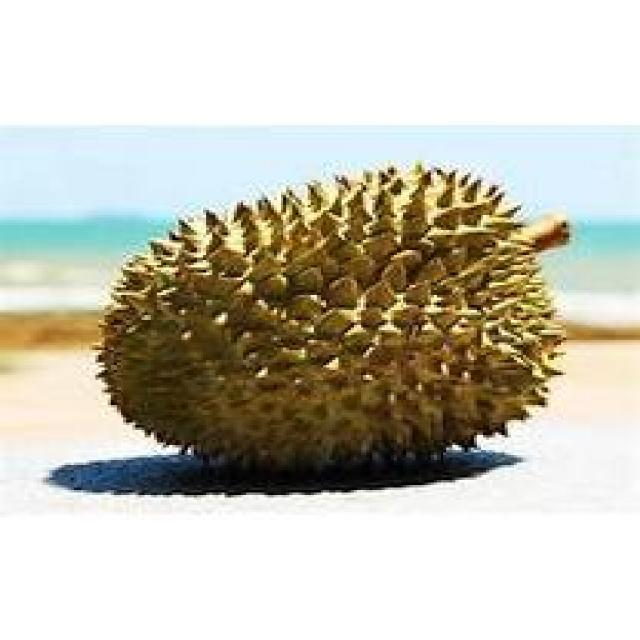fruit: (203, 132, 579, 498)
